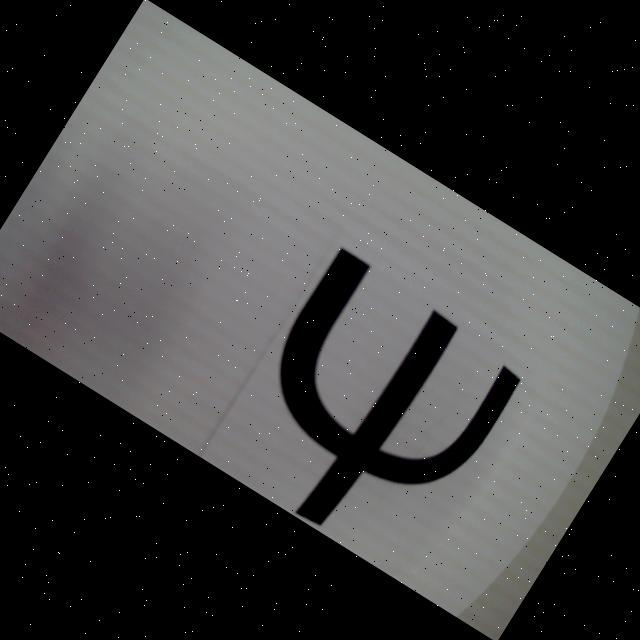PSI: (208, 246, 532, 579)
